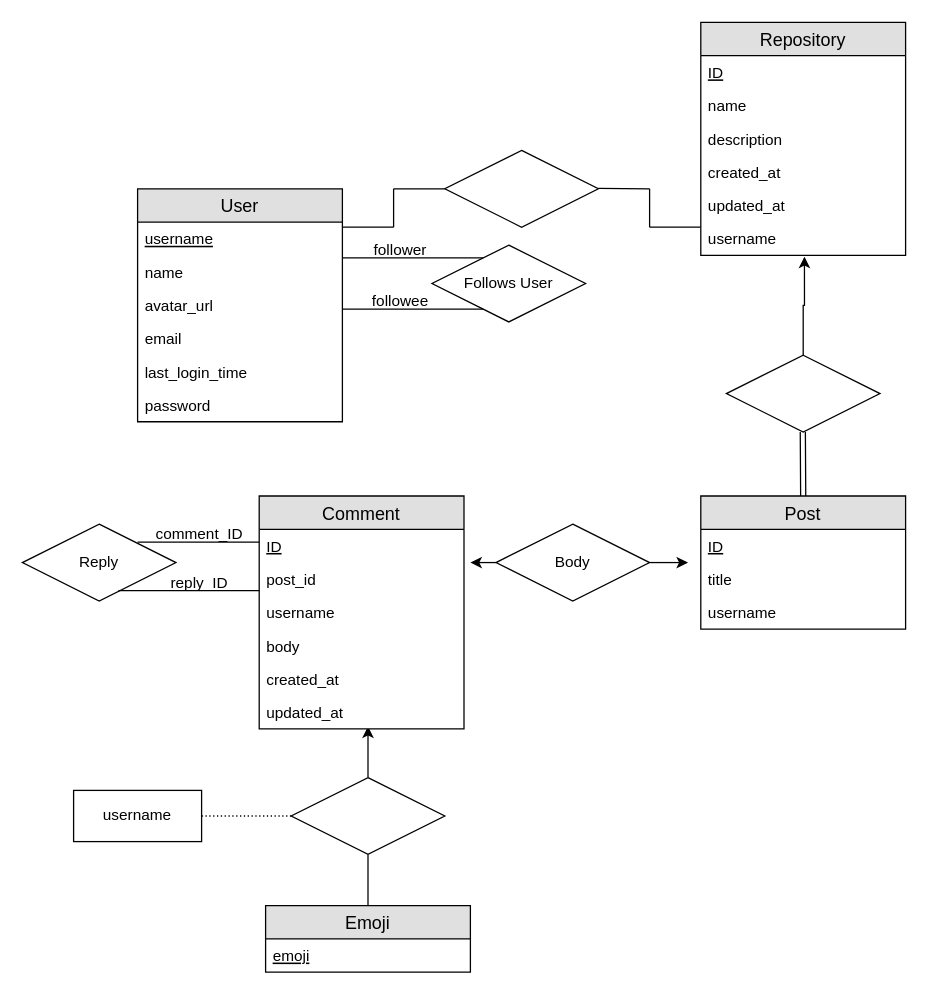
Image size: 928x998. Some labels were removed from this diagram. Each missing label, with the centre of its shape:
Follows Repositories: pixel 521 188
Has Post: pixel 802 393
Reaction: pixel 367 815
